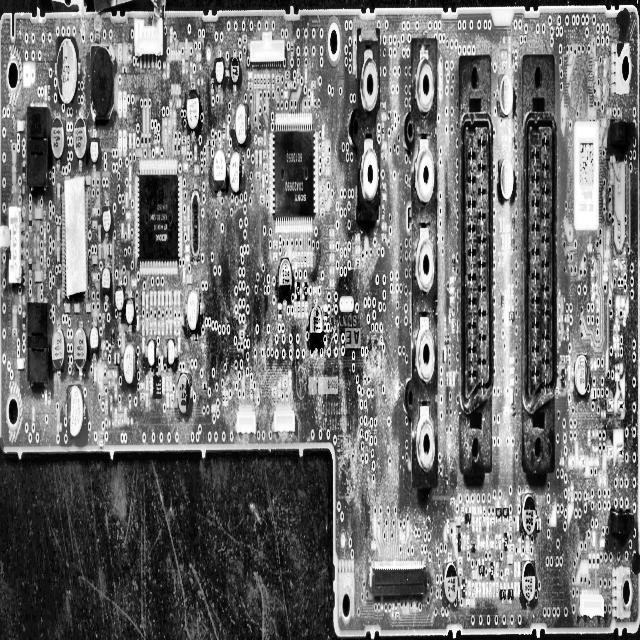PCB: (0, 4, 640, 638)
